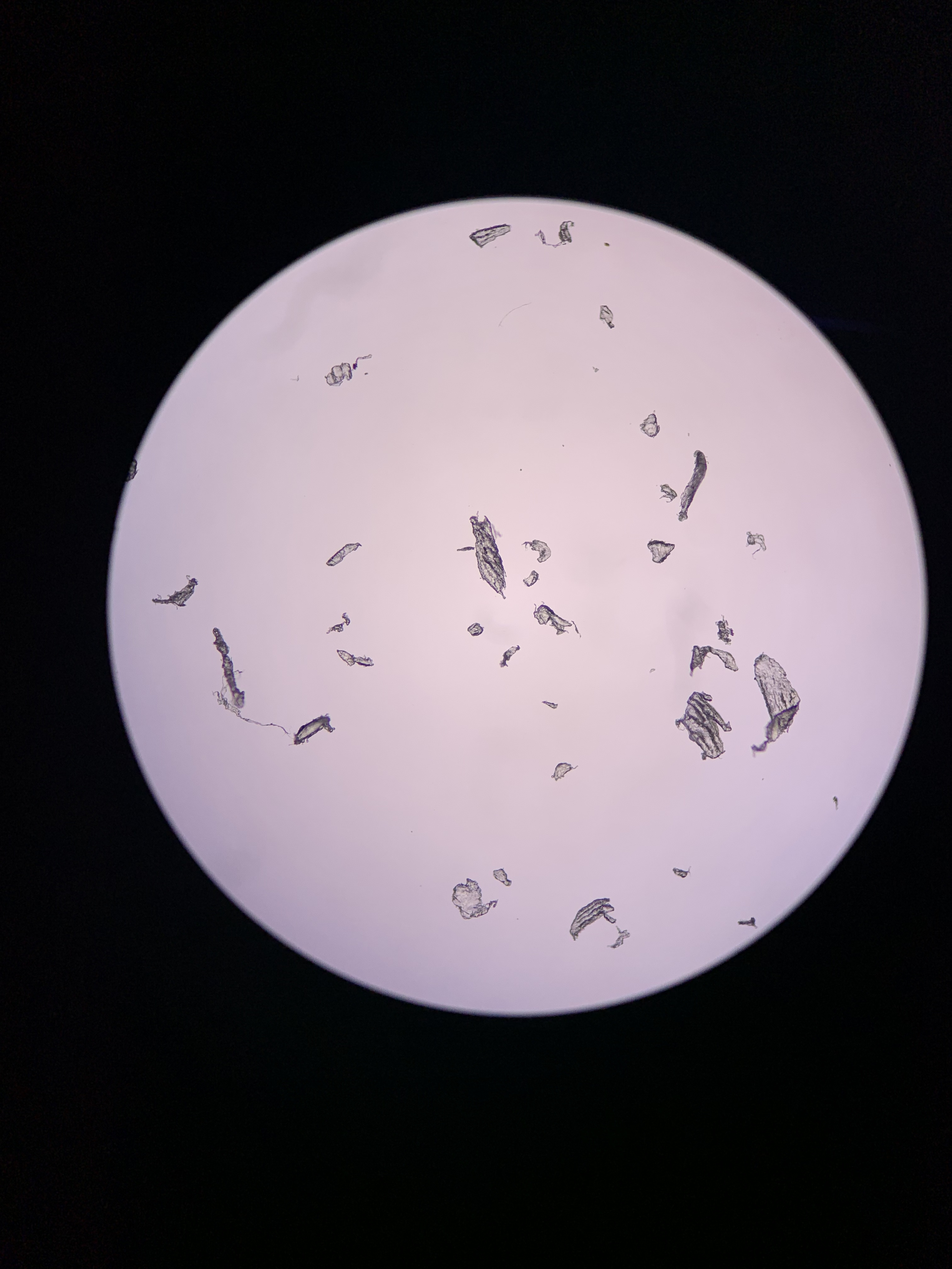microplastic: (212, 627, 291, 735), (750, 652, 801, 757), (675, 691, 732, 760), (469, 510, 507, 600), (676, 449, 709, 522), (569, 898, 617, 941), (451, 878, 499, 920), (533, 601, 581, 639), (151, 575, 199, 610), (689, 645, 739, 677), (288, 714, 336, 746), (325, 354, 372, 386), (535, 220, 575, 248), (469, 223, 511, 249), (498, 302, 533, 328), (326, 542, 362, 567), (647, 538, 675, 564), (337, 649, 374, 668), (521, 540, 551, 563), (745, 531, 767, 560), (715, 614, 734, 646), (607, 925, 631, 950), (639, 410, 660, 438), (325, 612, 350, 634), (551, 763, 579, 781), (499, 645, 520, 668), (599, 305, 615, 329), (493, 867, 512, 887), (126, 457, 139, 482), (660, 484, 677, 503), (523, 570, 540, 587), (672, 865, 692, 879), (737, 916, 758, 929), (467, 623, 484, 636), (541, 700, 558, 709), (832, 795, 840, 811), (456, 546, 475, 551), (290, 375, 300, 382), (592, 366, 599, 372), (649, 668, 656, 674)
